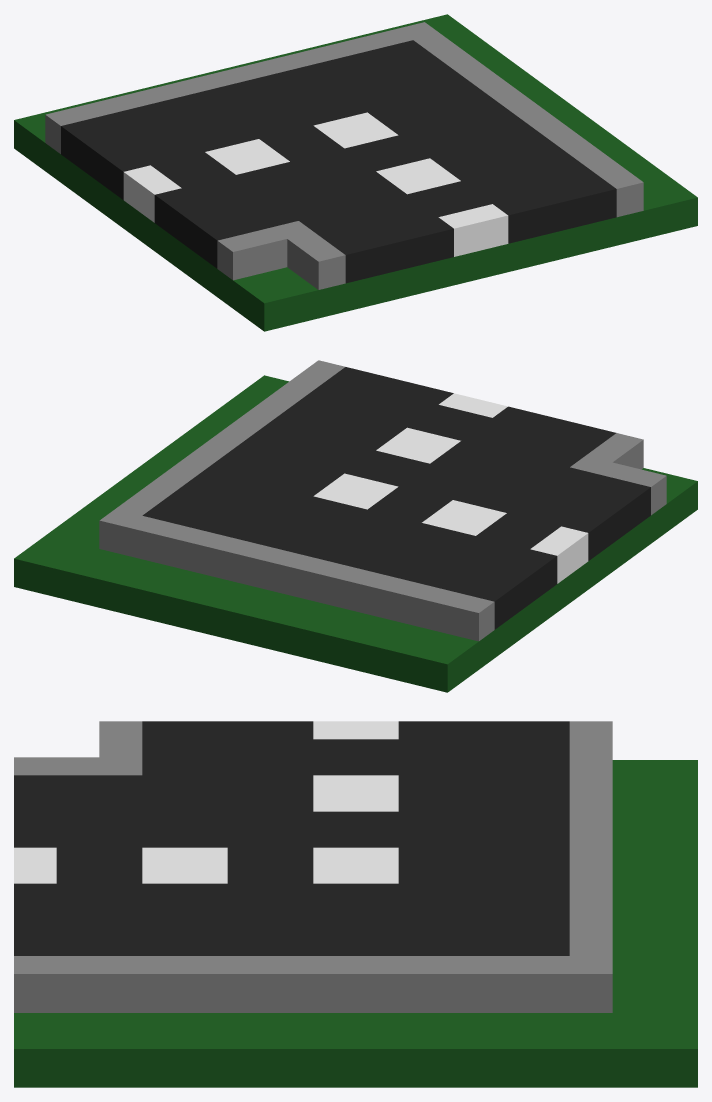
Rendered from road_corner.obj.
3 renders of one model, top to bottom at view 1: azimuth 30°, elevation 25°; view 2: azimuth 150°, elevation 25°; view 3: azimuth 270°, elevation 25°, orthographic. The views are drawn at different scales.
Bounding box in the file's own units: 1.6 × 0.2 × 1.6.
1 material, 1 textured.
